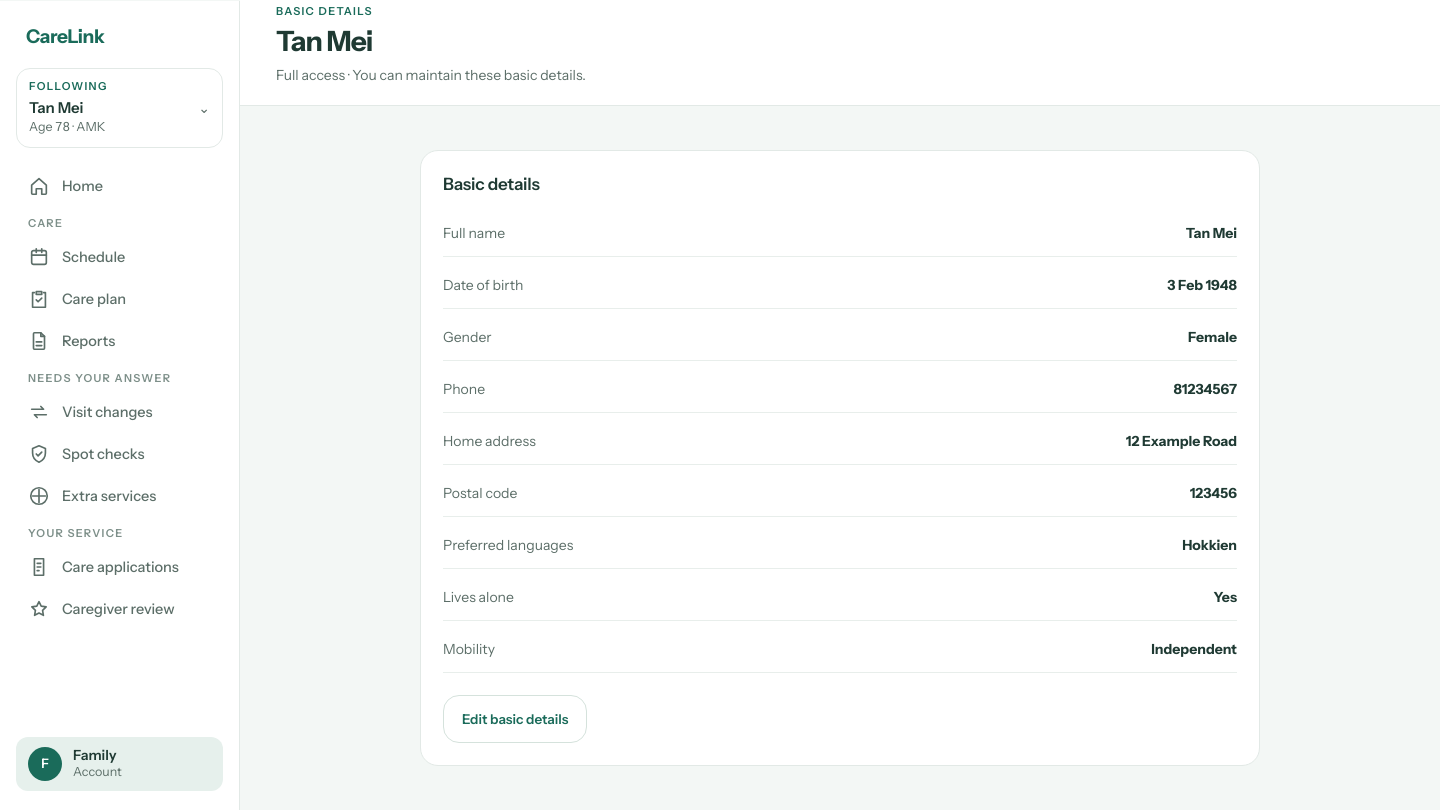
Test: My elders and basic details › hides cached protected details when a binding is revoked while editing
(page scrolled)
Click the button "Edit basic details". click: (515, 719)
box: 443,695 -> 587,743
(page scrolled)
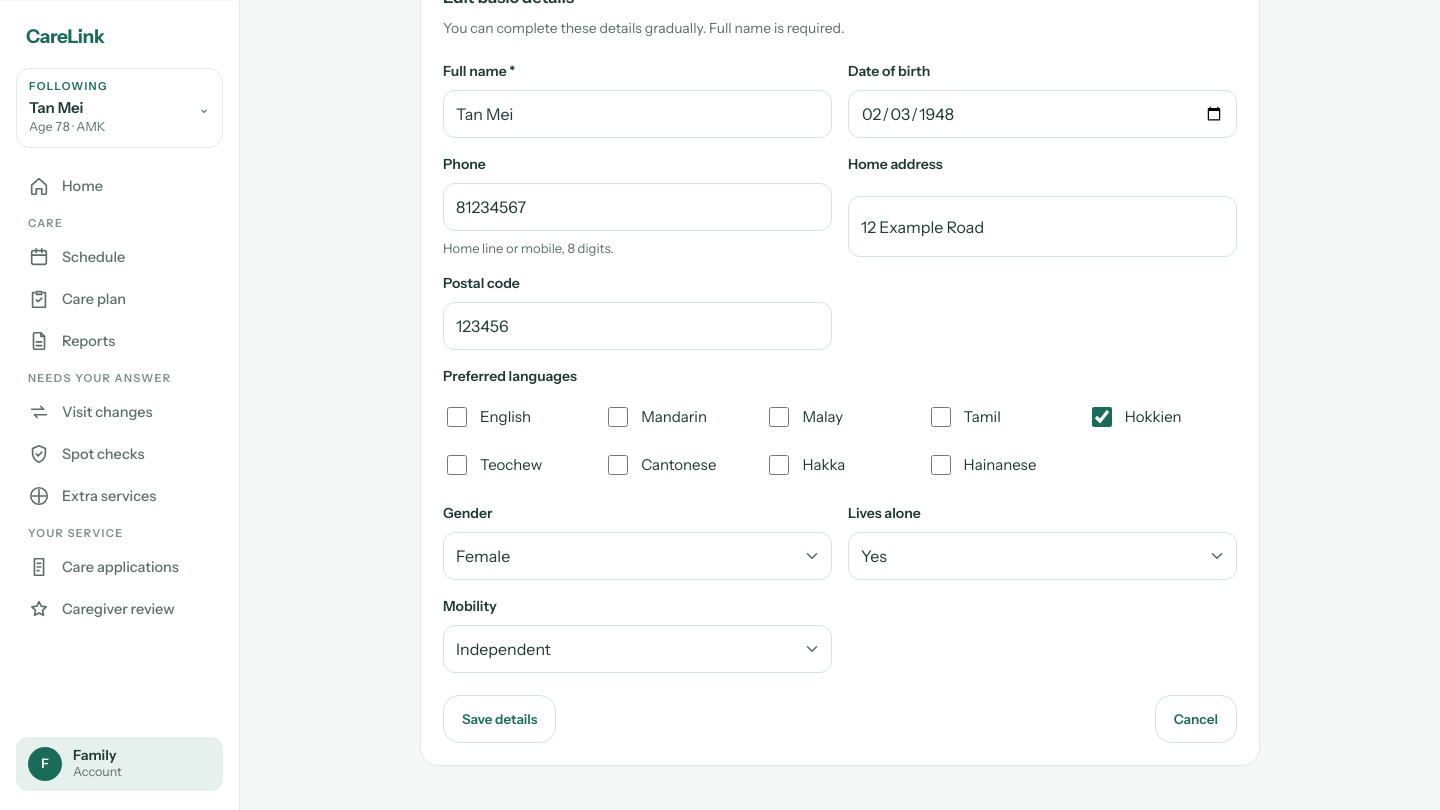
Click the button "Save details". click: (500, 719)
box: 443,695 -> 556,743
(page scrolled)
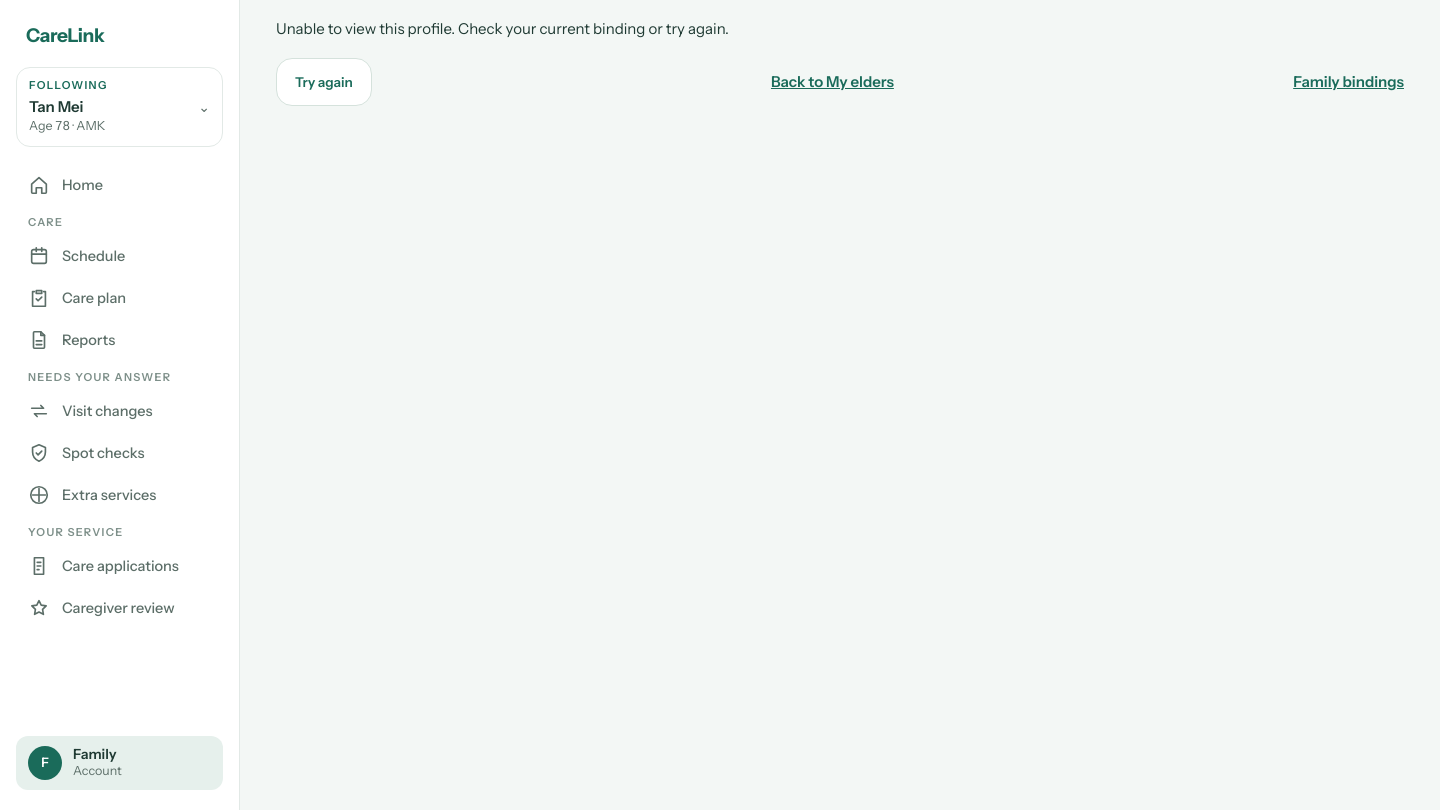
Expected: the text "12 Example Road" is not shown
Now the message shows "Check your current binding", box 276,18 -> 729,38
Now the field is gone
